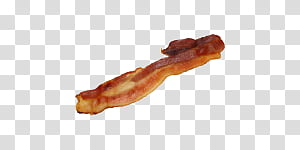bacon: (73, 35, 243, 110)
